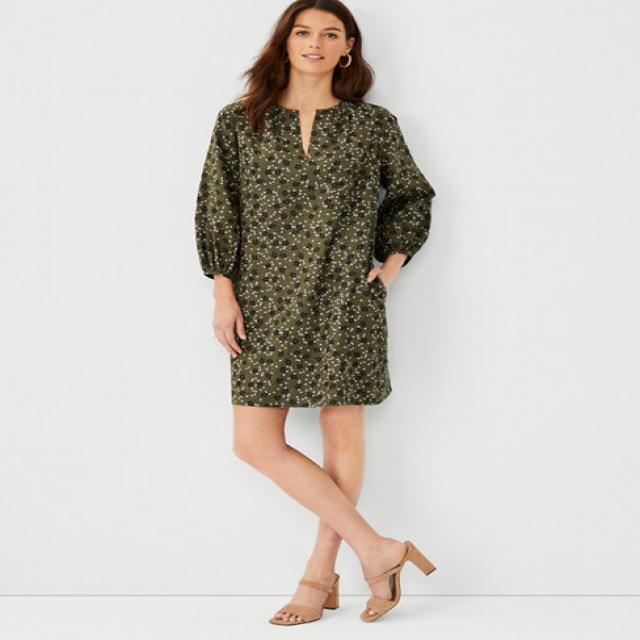clothes: (168, 102, 446, 424)
